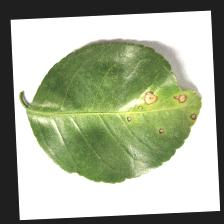canker: (123, 82, 200, 136)
